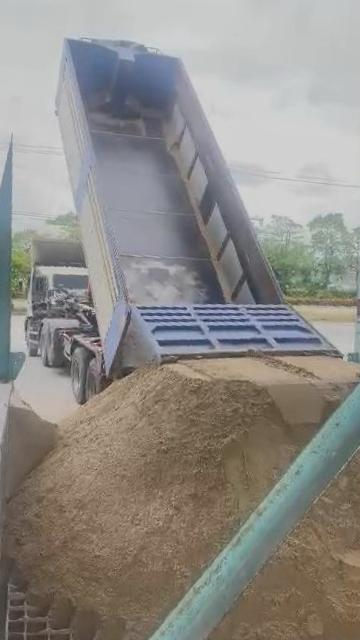sand: (5, 328, 360, 640), (198, 444, 360, 640), (2, 391, 58, 501)
